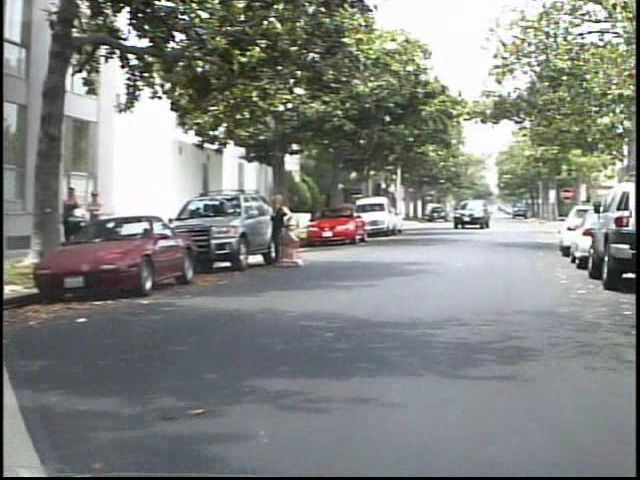person: (273, 191, 306, 274), (71, 184, 97, 255), (98, 186, 121, 250)
